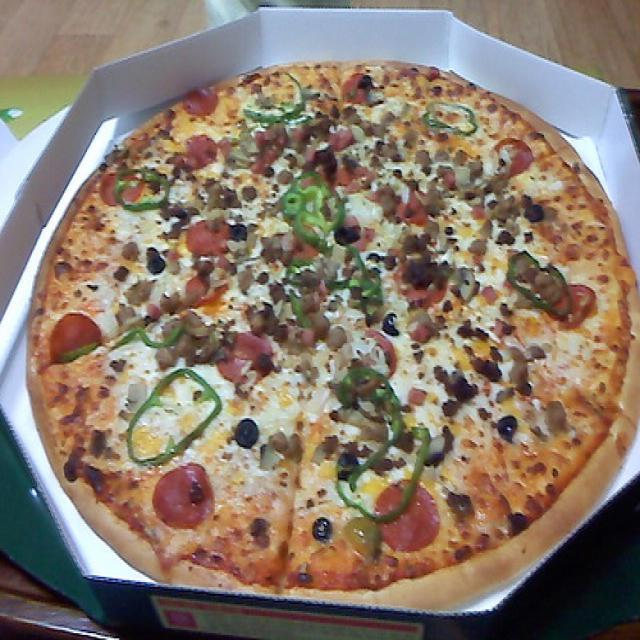Wet Waste: (20, 52, 640, 610)
